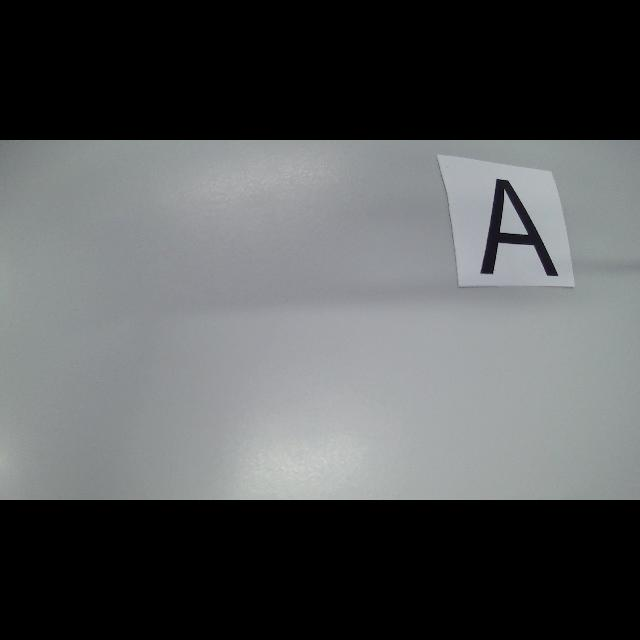FAKE: (478, 178, 560, 276)
